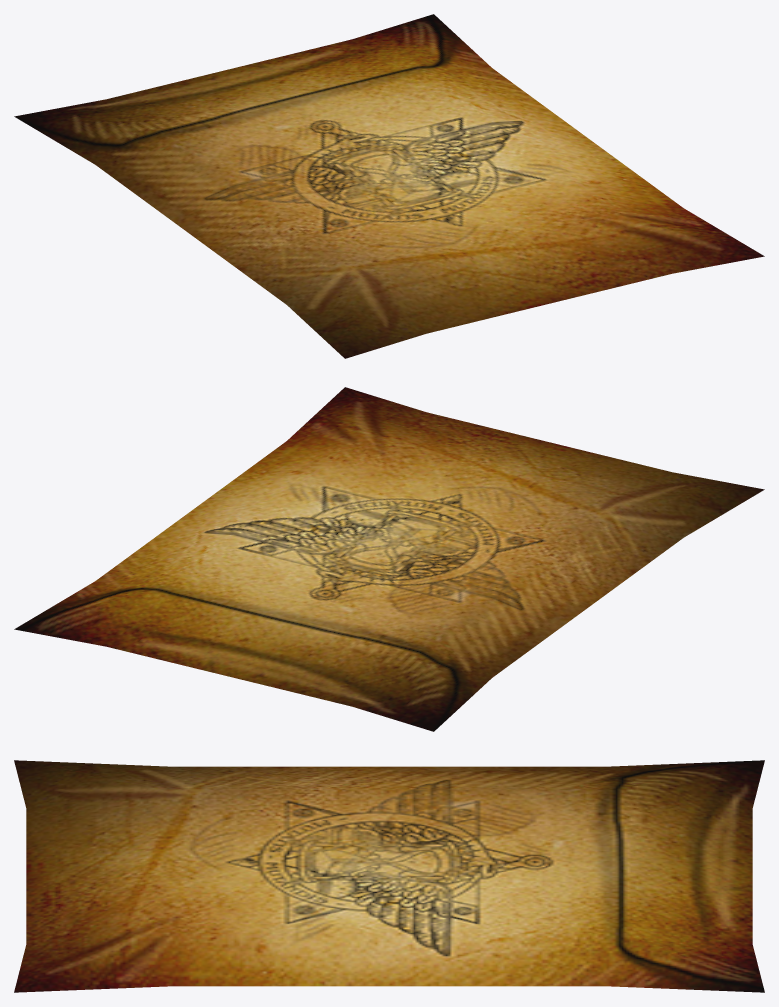
The model's file is enveloppe.fbx.
3 views of the same model, one above another, from view 1: azimuth 30°, elevation 25°; view 2: azimuth 150°, elevation 25°; view 3: azimuth 270°, elevation 25° (orthographic). The views are drawn at different scales.
Visible parts, largest first — view 1: pCube83; view 2: pCube83; view 3: pCube83.
Part boxes in pixels (bbox=[...]): pCube83: bbox=[14, 14, 764, 358]; pCube83: bbox=[14, 387, 764, 731]; pCube83: bbox=[14, 760, 764, 992].
Bounding box in the file's own units: 34.23 × 1.97 × 46.75.
